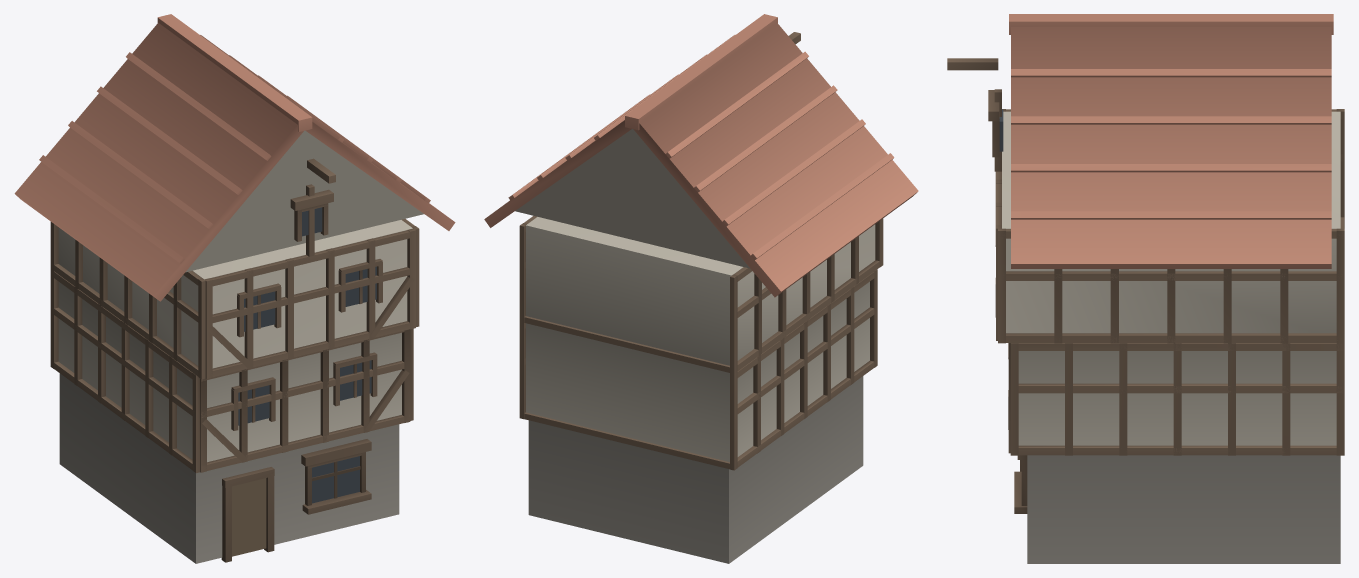
Rendered from house_medieval_2.glb.
The picture shows the model from 3 angles, left to right: view 1: azimuth 30°, elevation 25°; view 2: azimuth 150°, elevation 25°; view 3: azimuth 270°, elevation 25°; orthographic projection. The views are drawn at different scales.
Visible parts, largest first — view 1: Body_Detail, Body_Roof, Body_Wall; view 2: Body_Wall, Body_Detail, Body_Roof; view 3: Body_Roof, Body_Detail, Body_Wall.
Boxes of the visible parts, box(x1,y1,x2,y2) form: Body_Detail: box(50, 158, 419, 563); Body_Roof: box(14, 14, 455, 301); Body_Wall: box(58, 130, 423, 462); Body_Wall: box(515, 129, 875, 461); Body_Detail: box(519, 32, 883, 563); Body_Roof: box(484, 14, 918, 297); Body_Roof: box(1009, 14, 1333, 268); Body_Detail: box(947, 58, 1344, 563); Body_Wall: box(1002, 111, 1340, 445).
Bounding box in the file's own units: 1.1 × 1.49 × 1.09.
